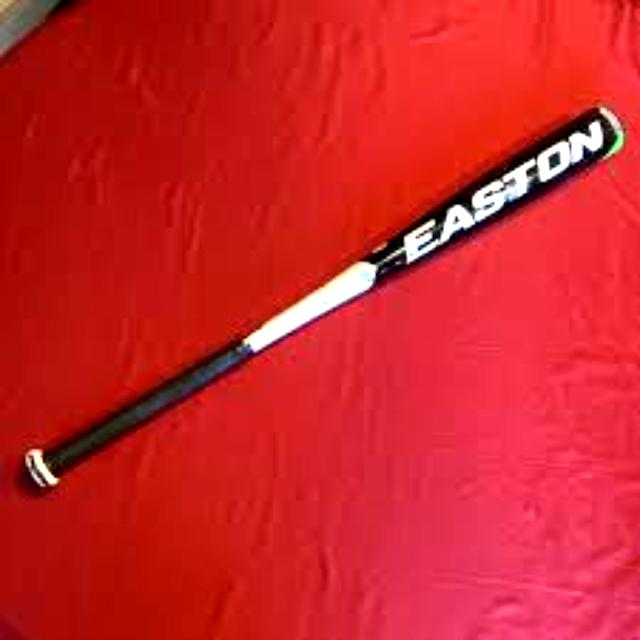baseball bat: (23, 93, 631, 491)
